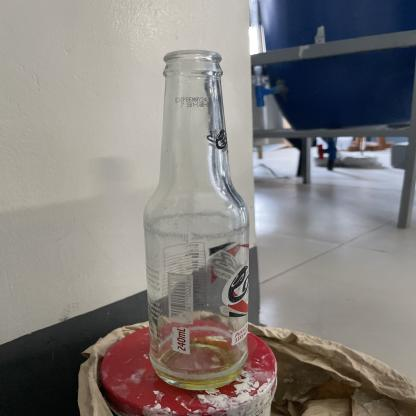Can: (140, 49, 250, 393)
